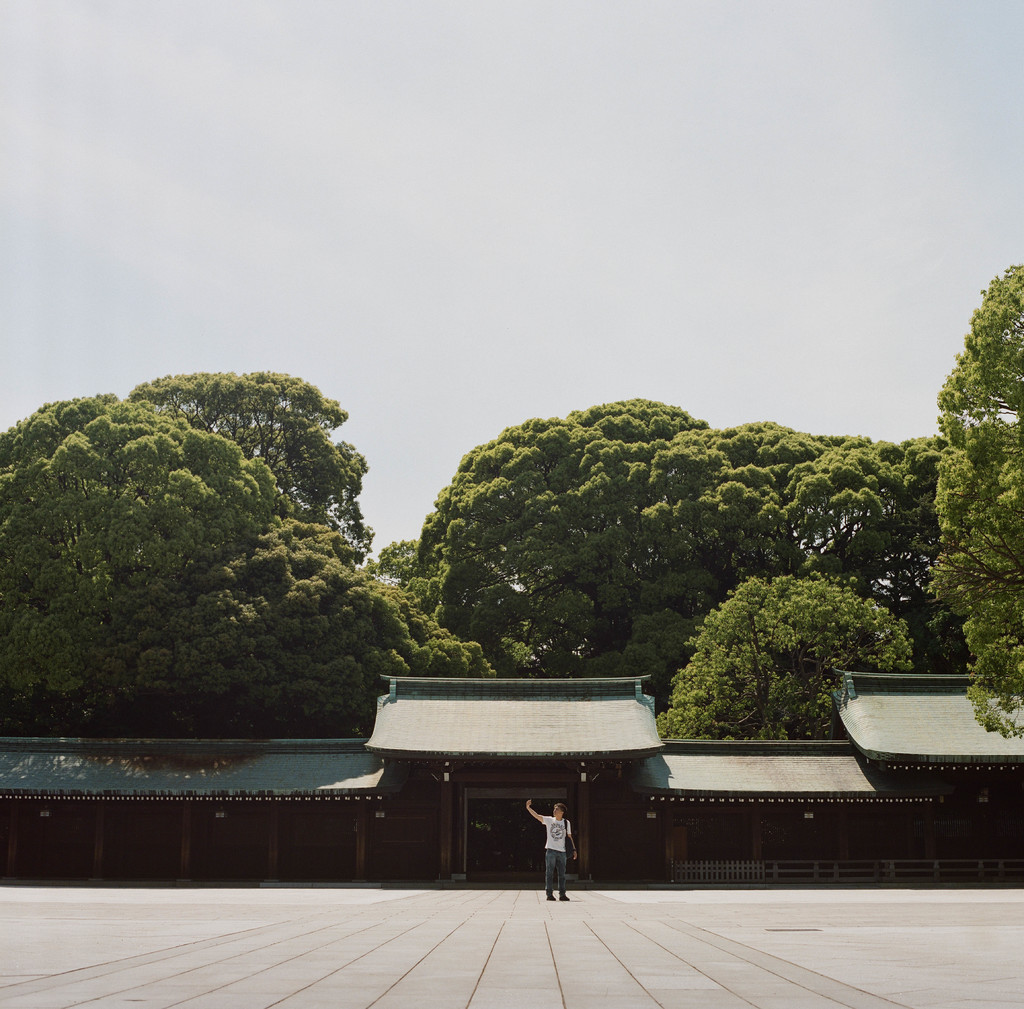Tree: (394, 387, 982, 726), (14, 357, 408, 752), (920, 254, 1023, 756), (646, 574, 930, 747)
